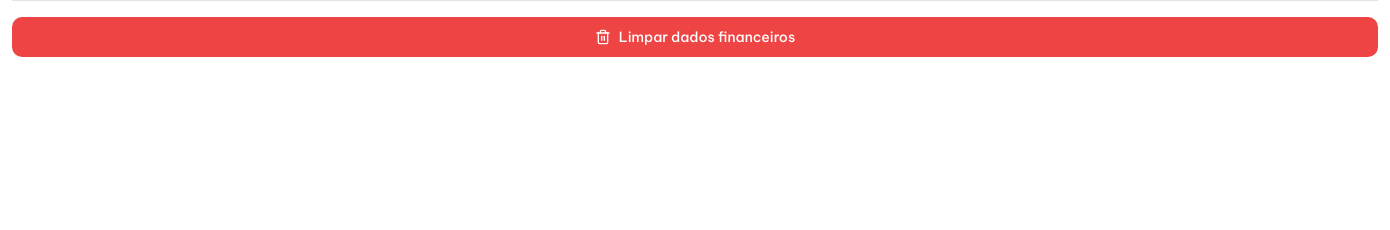
Test: partner financial reset › requires a password and sends only the selected partner to the protected operation
Later steps or results of the test are not shown.
Click the button "Limpar dados financeiros": (695, 37) [12, 17, 1378, 57]
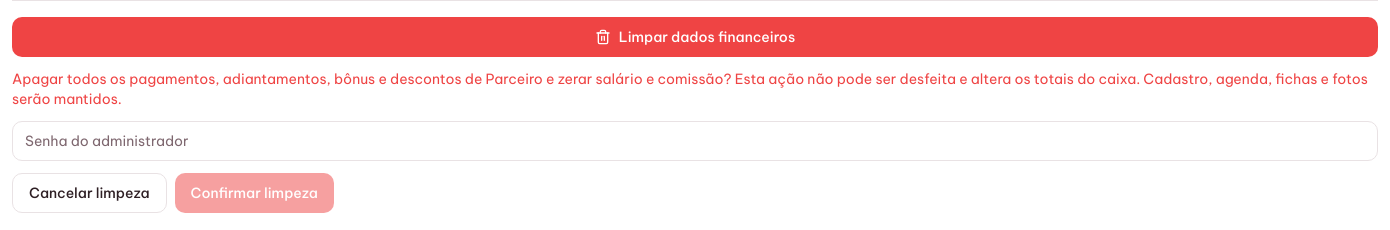
Expected: the button "Confirmar limpeza" is disabled, [174, 173, 334, 213]
